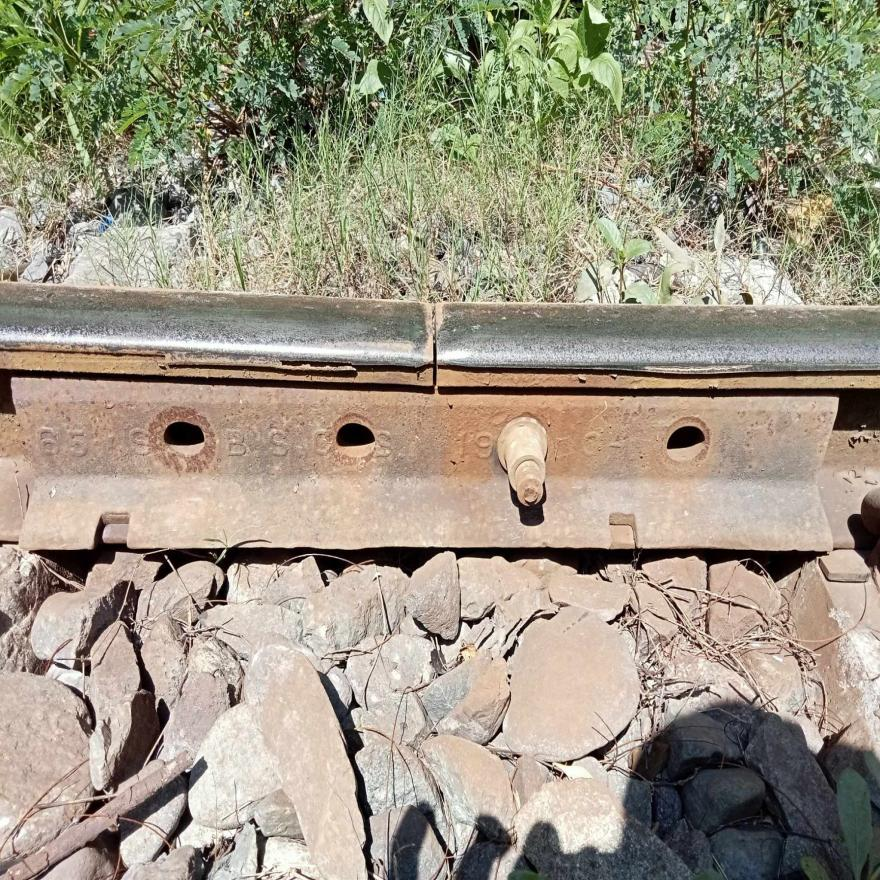railway-gap: (376, 259, 490, 416)
